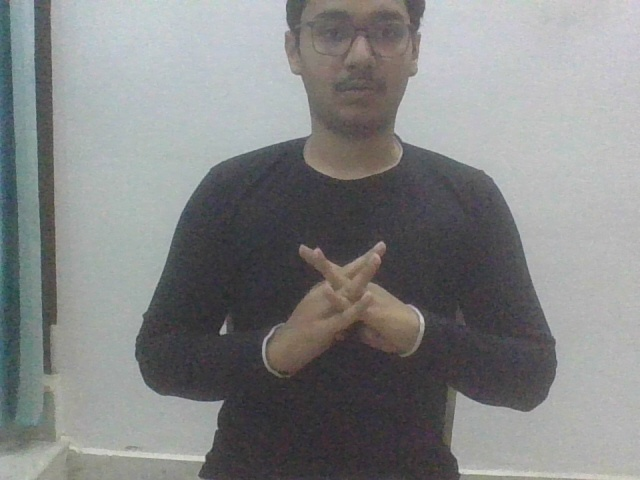W: (264, 243, 423, 375)
